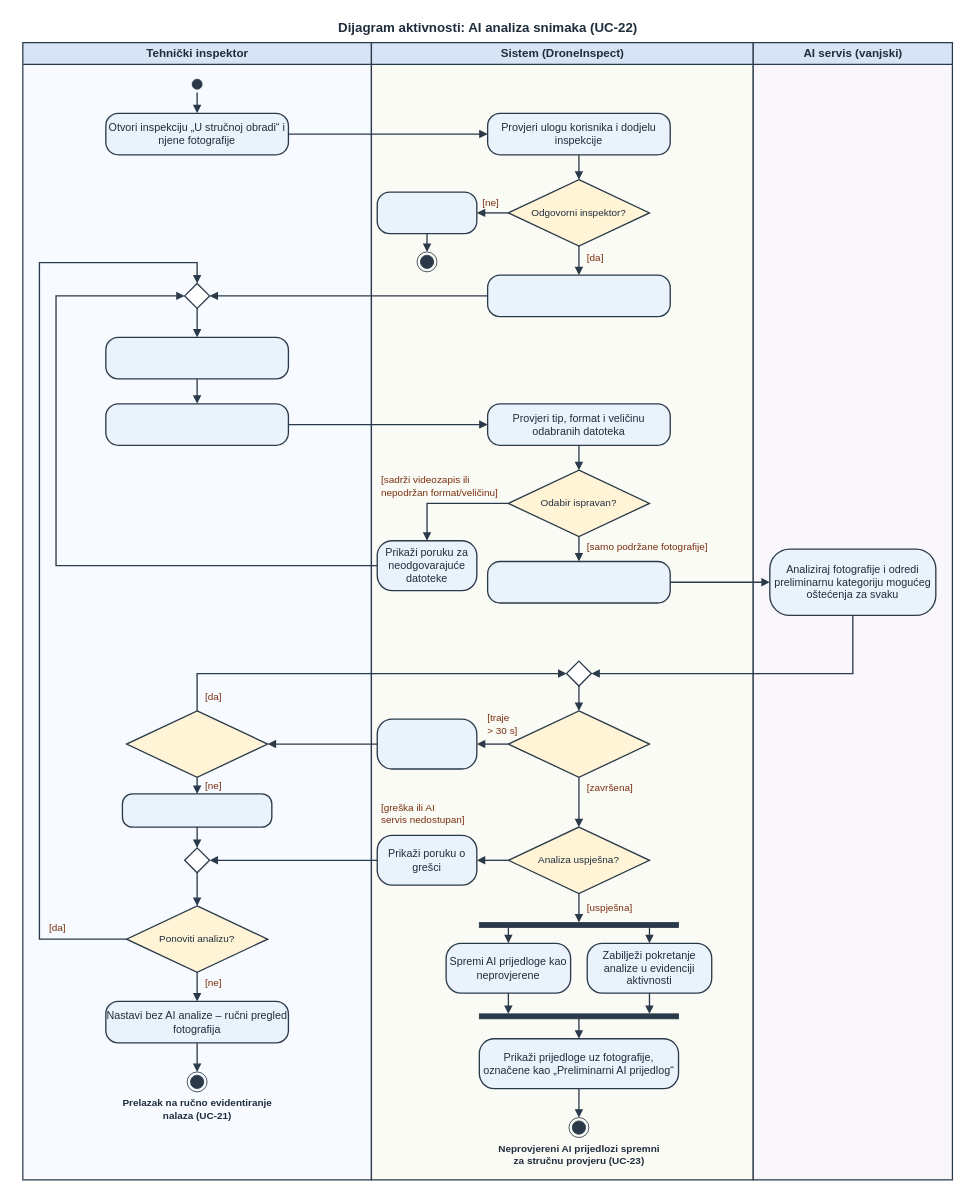
The diagram is 974 pixels wide and 1194 high, and some of its shapes have lost their labels. Here are the shapes that lost their labels. From the top down, the centre of each, then its label:
At (x=426, y=212): "Odbij zahtjev i prikaži poruku".
At (x=578, y=295): "Prikaži fotografije i opciju „Pokreni AI analizu“".
At (x=197, y=357): "Odaberi jednu ili više fotografija".
At (x=197, y=424): "Odaberi „Pokreni AI analizu“".
At (x=578, y=581): "Pošalji fotografije AI servisu i prikaži da analiza traje".
At (x=196, y=744): "Nastaviti čekanje?".
At (x=426, y=743): "Prikaži obavještenje o dužem trajanju analize".
At (x=578, y=744): "Analiza završena?".
At (x=196, y=810): "Otkaži analizu".
